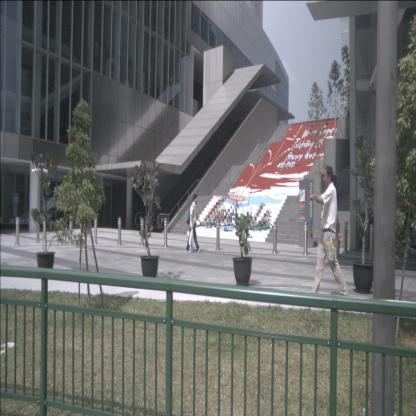human-pedestrian-adult: (309, 167, 349, 304), (185, 195, 202, 253), (223, 131, 229, 159), (216, 133, 221, 164)
